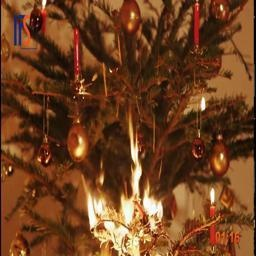fire: (85, 170, 165, 242)
